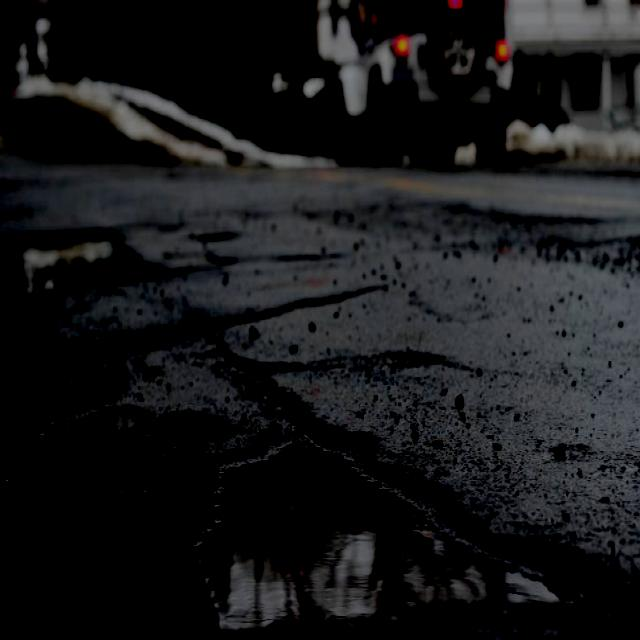Pothole: (0, 218, 640, 640)
